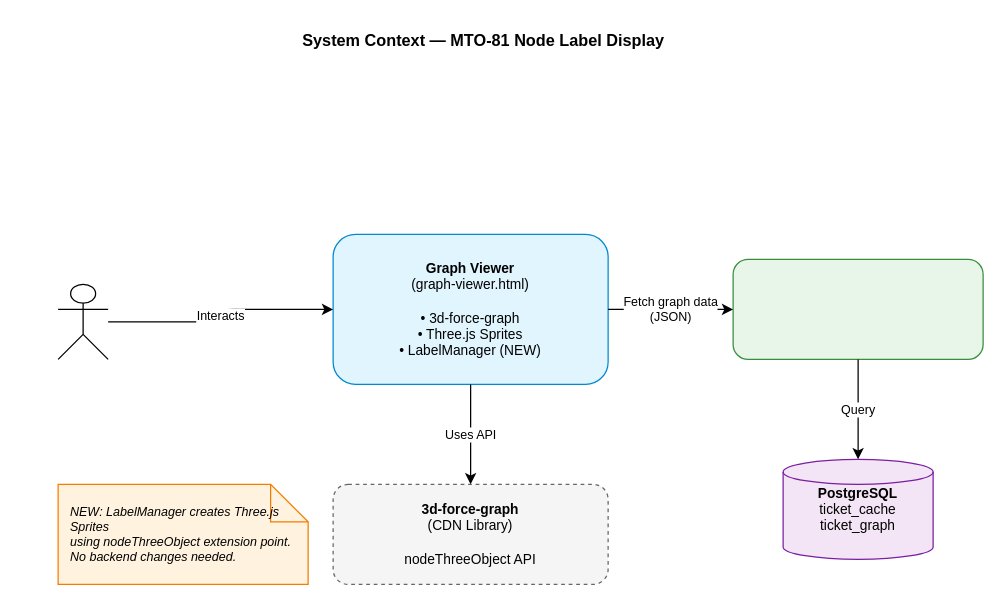
The diagram is 1005 pixels wide and 606 high, and some of its shapes have lost their labels. The centre of each missing label's shape, as x and y in pixels:
Graph API (orchestrator-server) GET /sync/graph/{project}: pixel 857 308
Graph Viewer User (Browser): pixel 82 321
